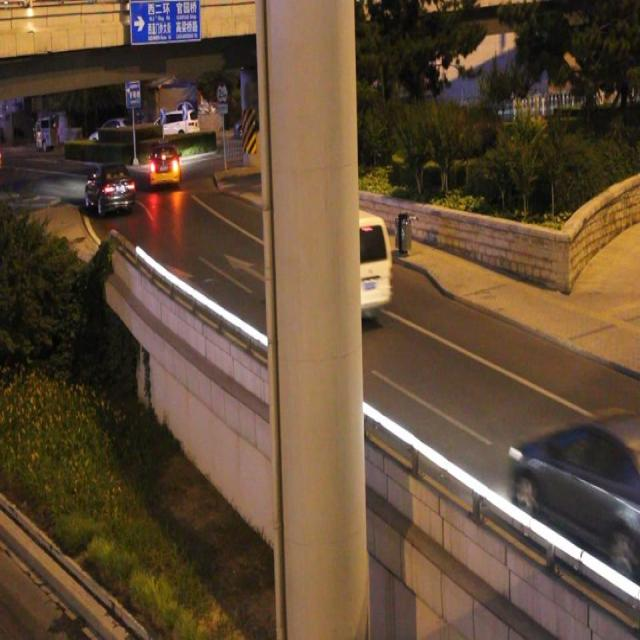car: (508, 412, 640, 569), (84, 161, 136, 215), (147, 140, 182, 187)
truck: (281, 204, 391, 322)
